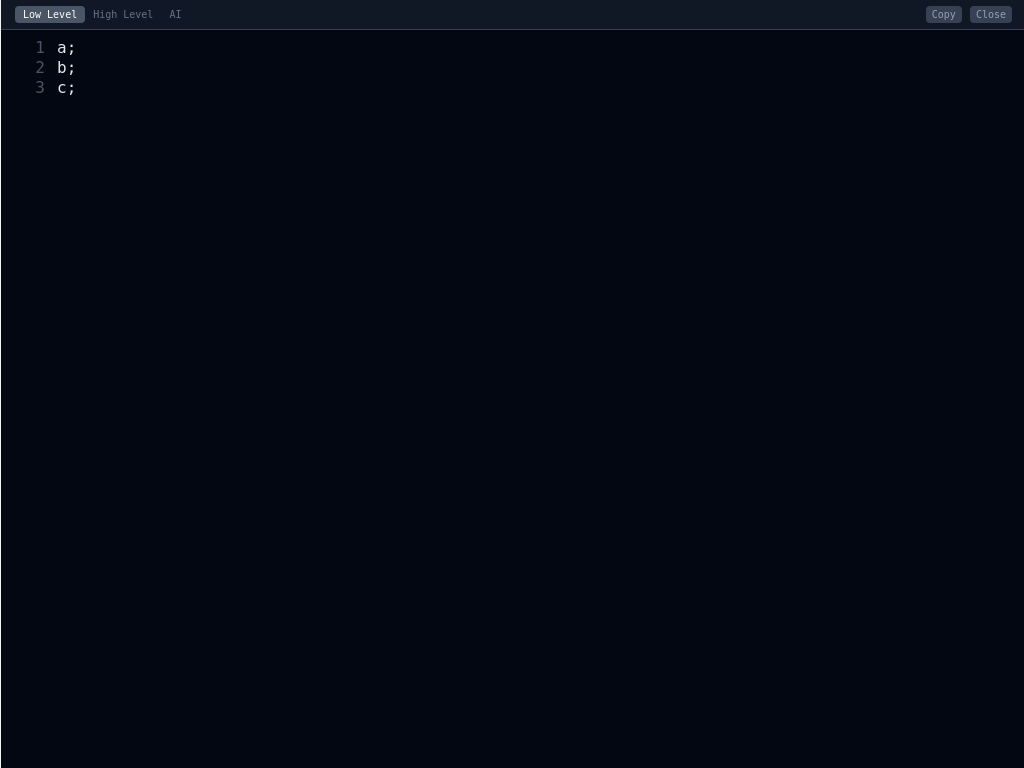
Test: DecompileView context menu › opens at the pointer on a line that has an address
Right-click the button "2 b;" at (40, 68), box [13, 58, 1012, 78]
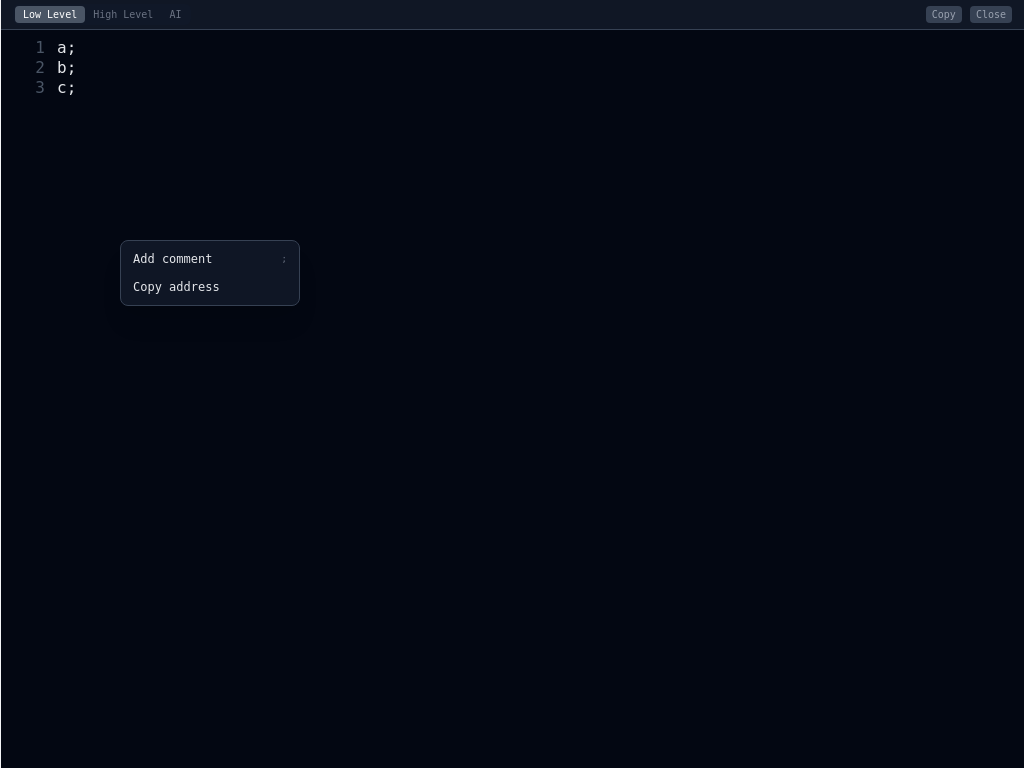
Expected: the text "Add comment ; Copy address" is shown, [120, 240, 300, 306]
Expected: the text "Add comment" is shown, [133, 251, 212, 267]
Expected: the button "Copy address" is shown, [121, 273, 299, 301]
